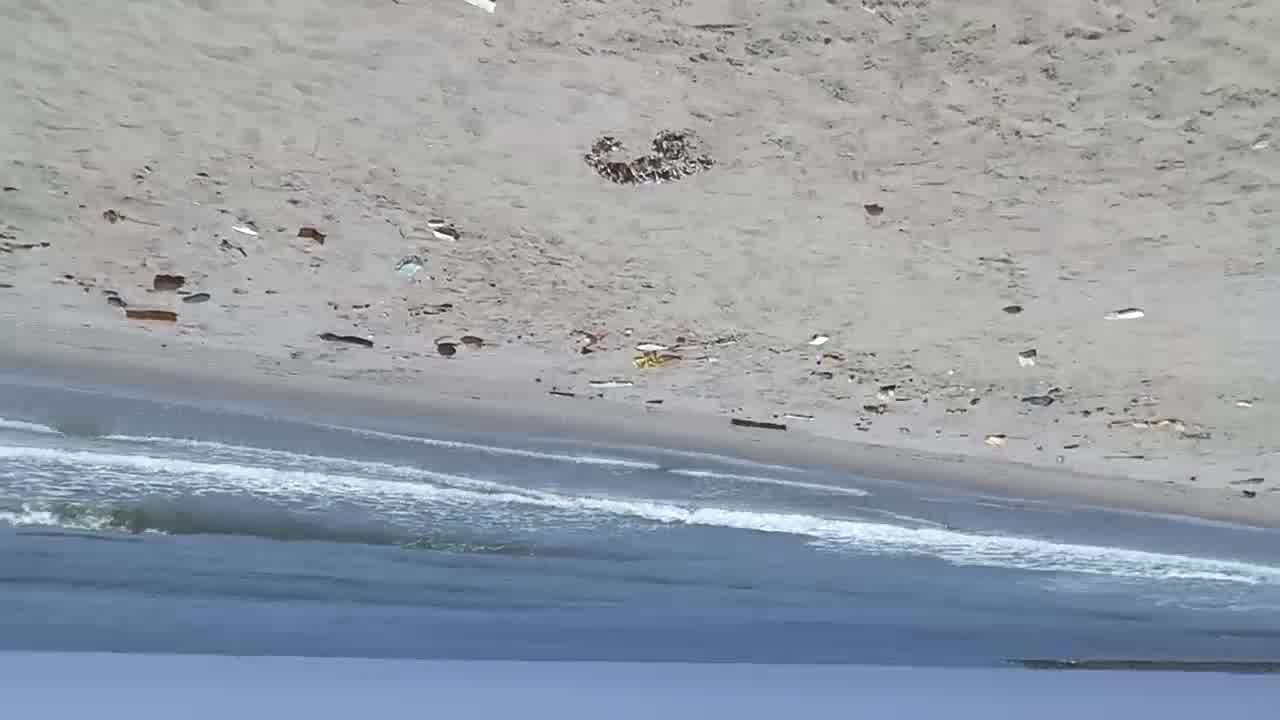obj: (584, 117, 718, 195), (627, 344, 684, 372), (568, 328, 608, 358), (418, 220, 462, 243), (1108, 417, 1185, 430), (126, 310, 176, 330), (729, 417, 791, 432), (152, 272, 184, 292), (296, 227, 326, 248), (1102, 308, 1150, 321), (396, 258, 424, 280), (1012, 348, 1040, 370), (981, 433, 1010, 450), (818, 354, 848, 368), (861, 204, 884, 221), (588, 381, 632, 389), (808, 334, 831, 348), (232, 224, 257, 236), (462, 336, 480, 352), (1002, 306, 1024, 316), (785, 415, 816, 422), (438, 344, 456, 356)
sand/background: (0, 369, 1279, 719)
